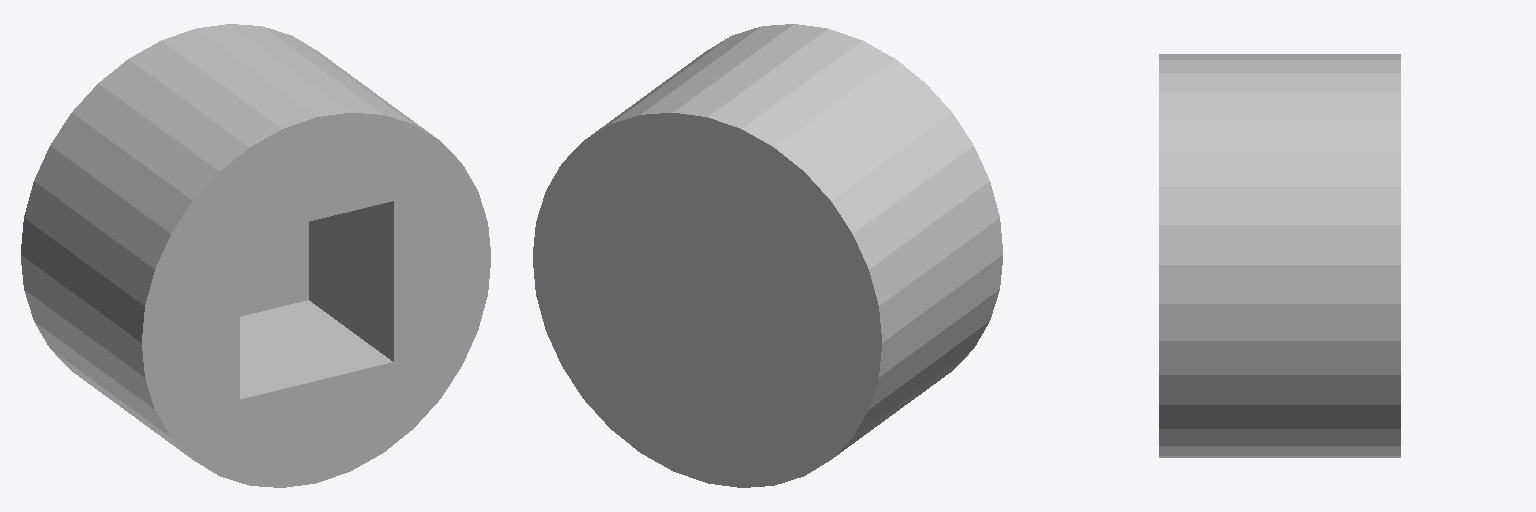
The picture shows the model from 3 angles: view 1: azimuth 30°, elevation 25°; view 2: azimuth 150°, elevation 25°; view 3: azimuth 270°, elevation 25°; orthographic projection.
Parts seen in each view (by area): view 1: slot_cube_slot_cube.001; view 2: slot_cube_slot_cube.001; view 3: slot_cube_slot_cube.001.
Boxes of the visible parts, box(x1,y1,x2,y2) form: slot_cube_slot_cube.001: box(21, 24, 490, 487); slot_cube_slot_cube.001: box(533, 24, 1002, 487); slot_cube_slot_cube.001: box(1159, 54, 1400, 457).
Size of the model in its own units: 0.05 by 0.05 by 0.03.